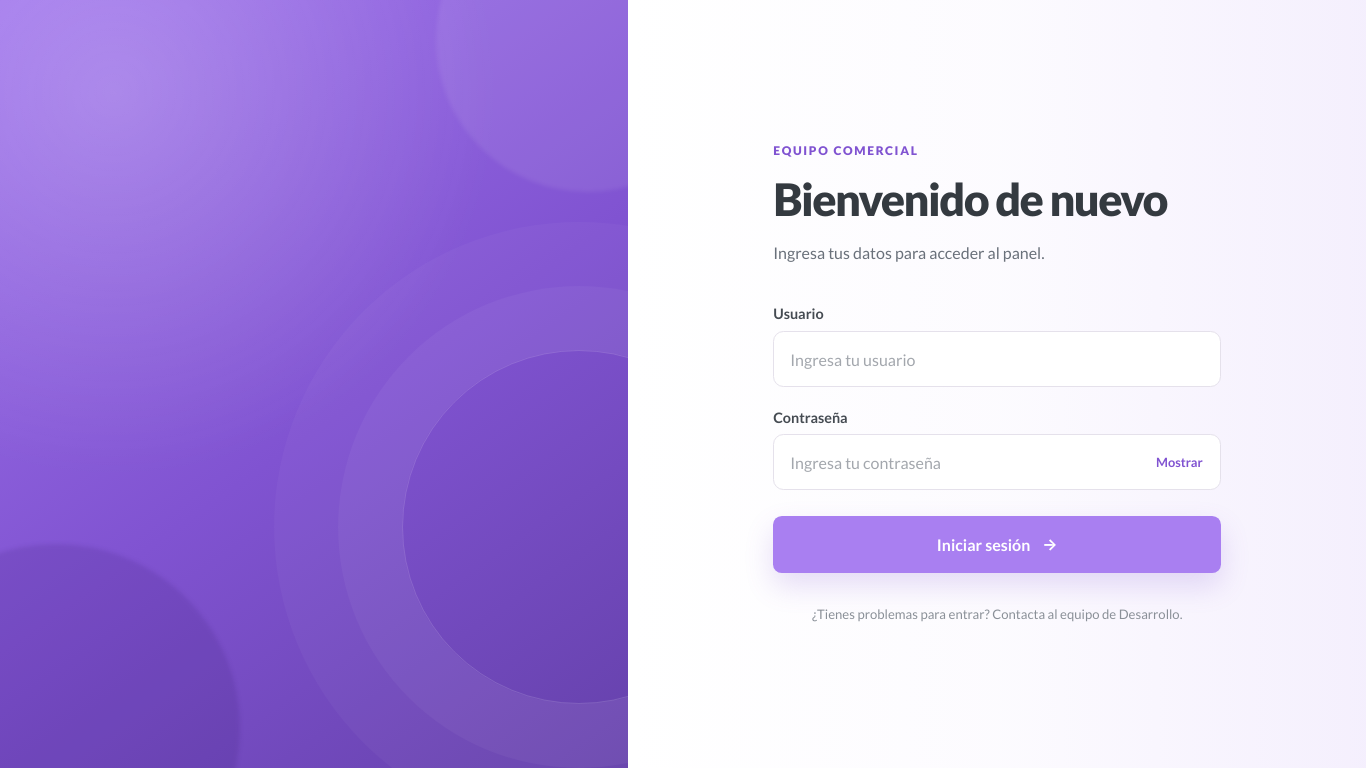
Test: App › allows the commercial credentials through the API
In the field labelled "Usuario": (997, 359) [773,331,1221,387], type "comercial"
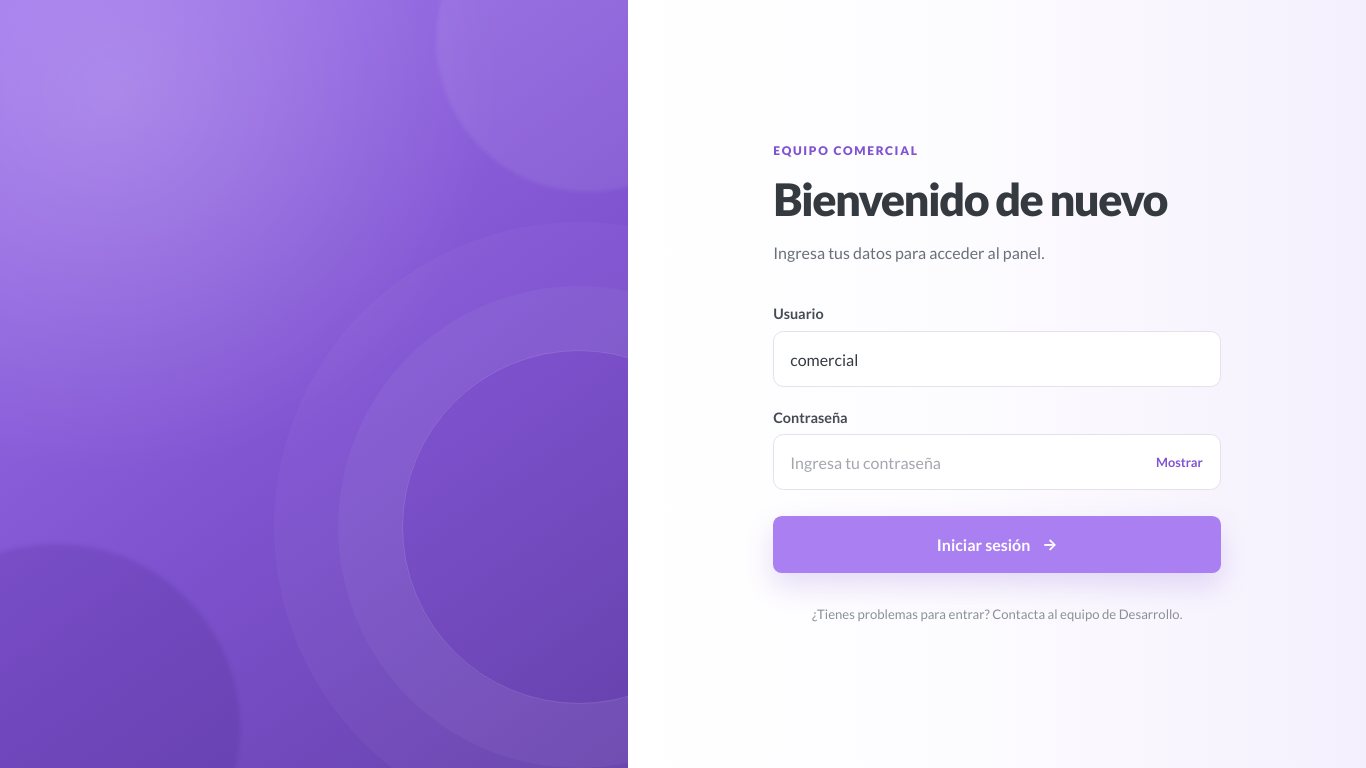
In the password field labelled "Contraseña": (997, 462) [773,434,1221,490], type "comercial123"
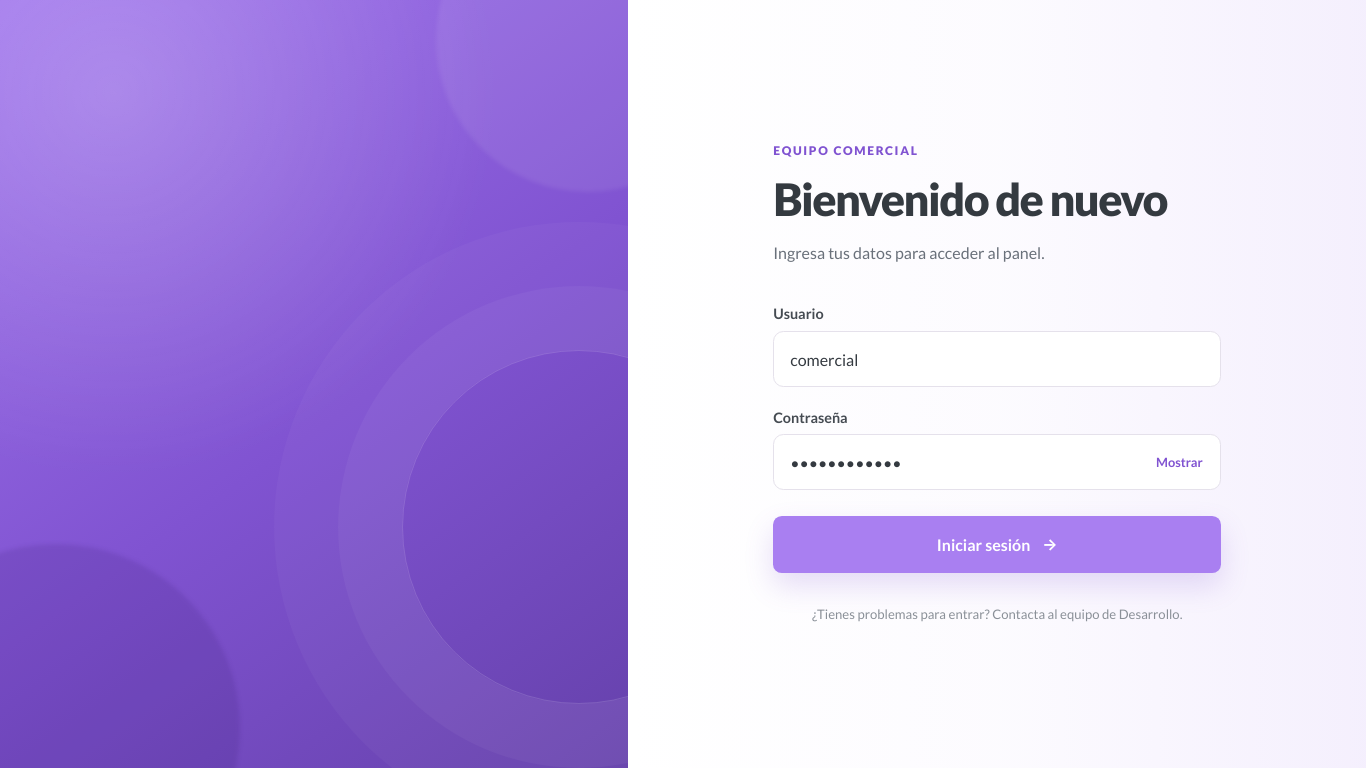
Click the button "Iniciar sesión →": (997, 544) [773,516,1221,573]
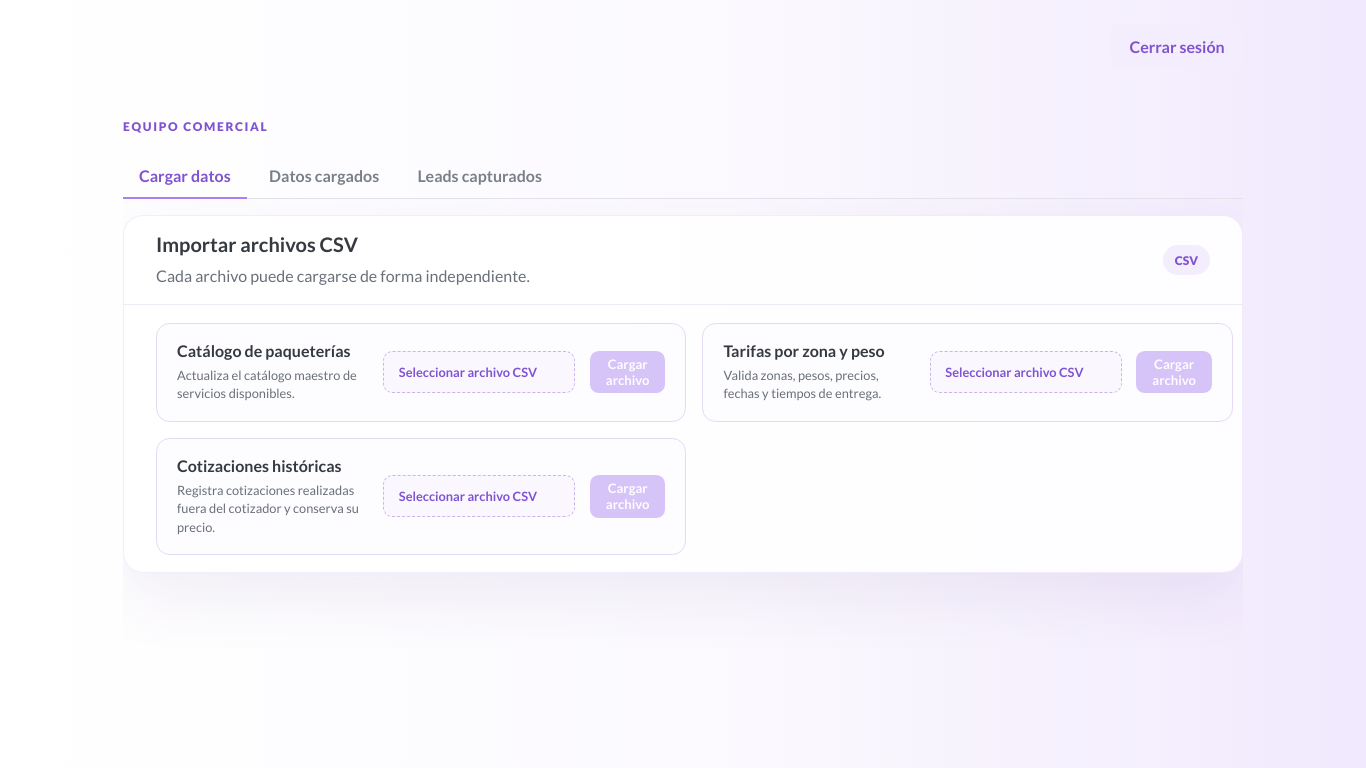
Now the button "Cargar datos" is shown, box [123,153,247,198]
Now the file field named "Archivo de paqueterías" is shown, box [383,351,575,393]
Now the file field named "Archivo de tarifas" is shown, box [930,351,1122,393]
